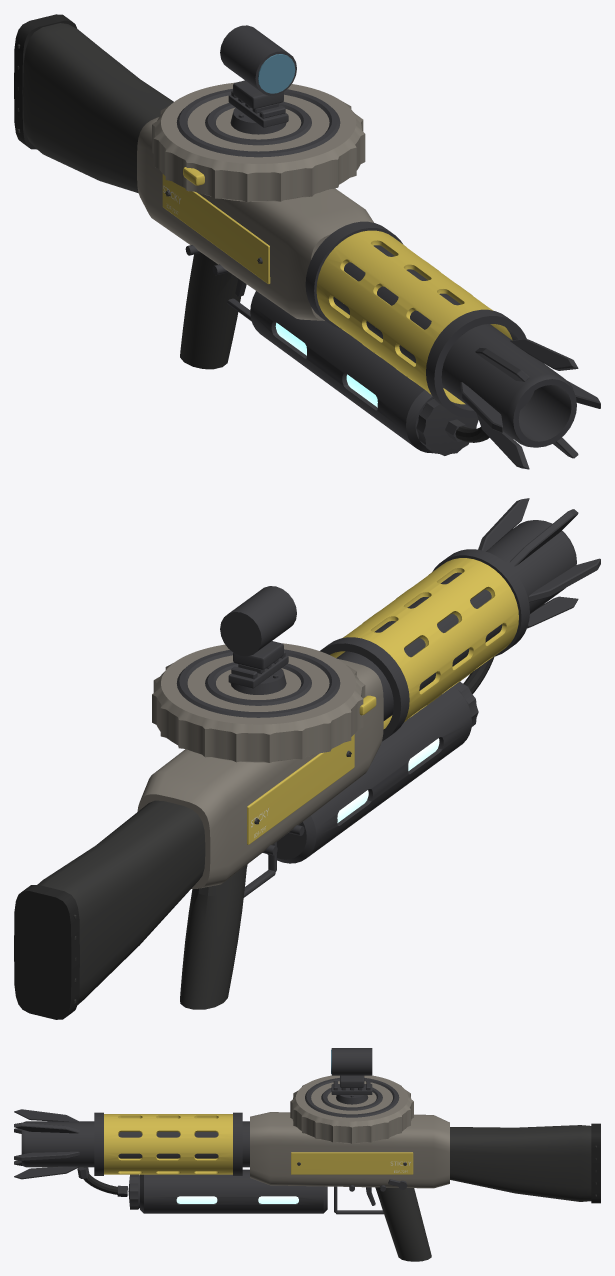
Rendered from sticky.glb.
3 renders of one model, top to bottom at view 1: azimuth 30°, elevation 25°; view 2: azimuth 150°, elevation 25°; view 3: azimuth 270°, elevation 25°, orthographic. The views are drawn at different scales.
Parts seen in each view (by area): view 1: Body; view 2: Body; view 3: Body.
Boxes of the visible parts, x1,y1,x2,y2 form: Body: [14, 14, 600, 469]; Body: [14, 498, 600, 1019]; Body: [14, 1048, 600, 1261].
Size of the model in its own units: 0.1516 by 0.2798 by 0.7193.
